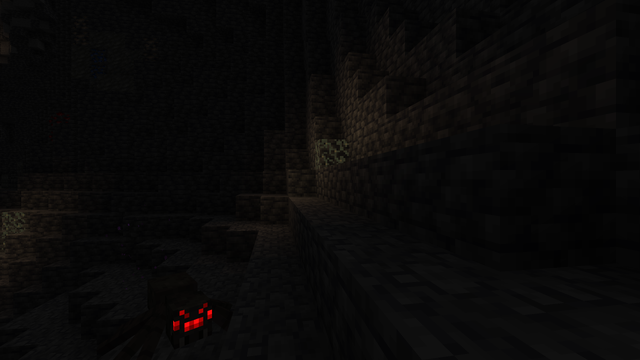araignees: (103, 268, 231, 359)
